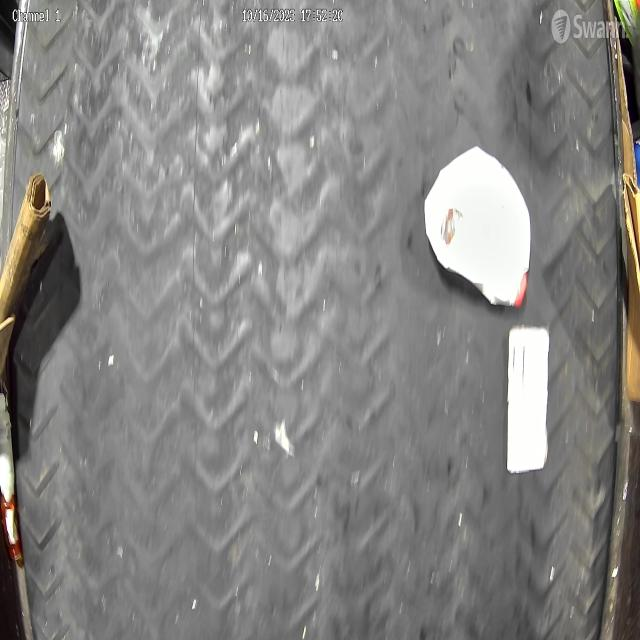non_white_jug: (424, 144, 530, 306)
